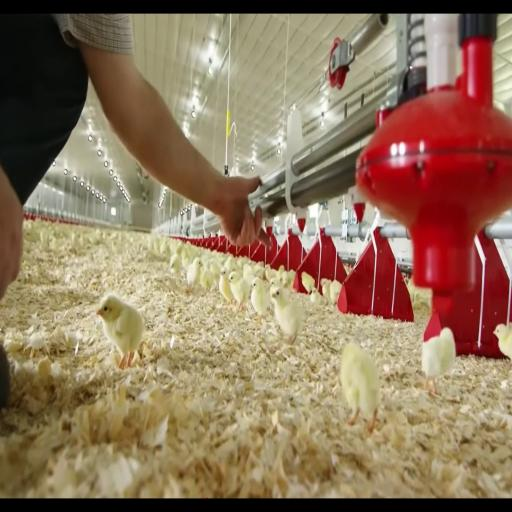chick: (340, 343, 379, 432), (97, 294, 143, 369), (422, 328, 455, 394), (271, 287, 303, 343), (251, 278, 270, 322), (229, 272, 250, 310), (494, 324, 511, 365), (219, 267, 233, 302), (187, 258, 202, 288), (200, 267, 215, 289), (330, 280, 342, 304), (302, 272, 315, 293), (310, 289, 326, 305), (281, 271, 295, 289), (170, 254, 182, 275), (209, 260, 220, 282), (320, 278, 330, 302), (243, 264, 255, 282), (265, 266, 277, 281), (253, 263, 264, 279), (270, 276, 280, 287)
